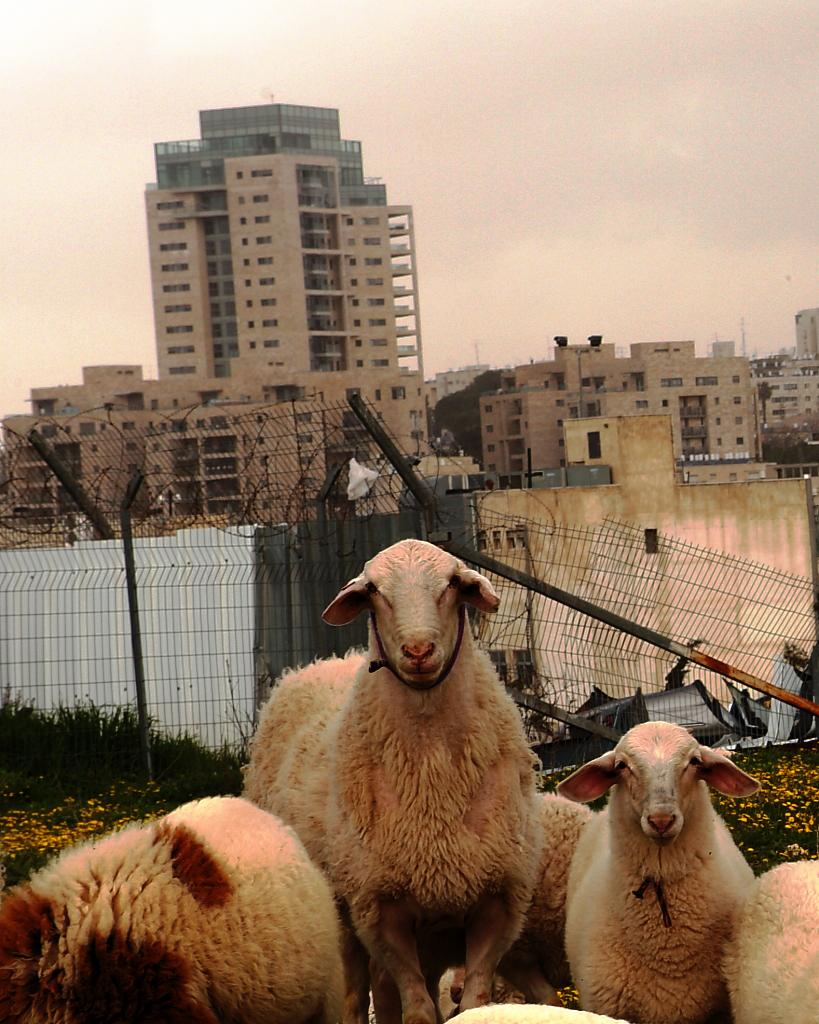Sheep: (239, 541, 545, 1023), (0, 795, 359, 1023), (553, 718, 762, 1023)
